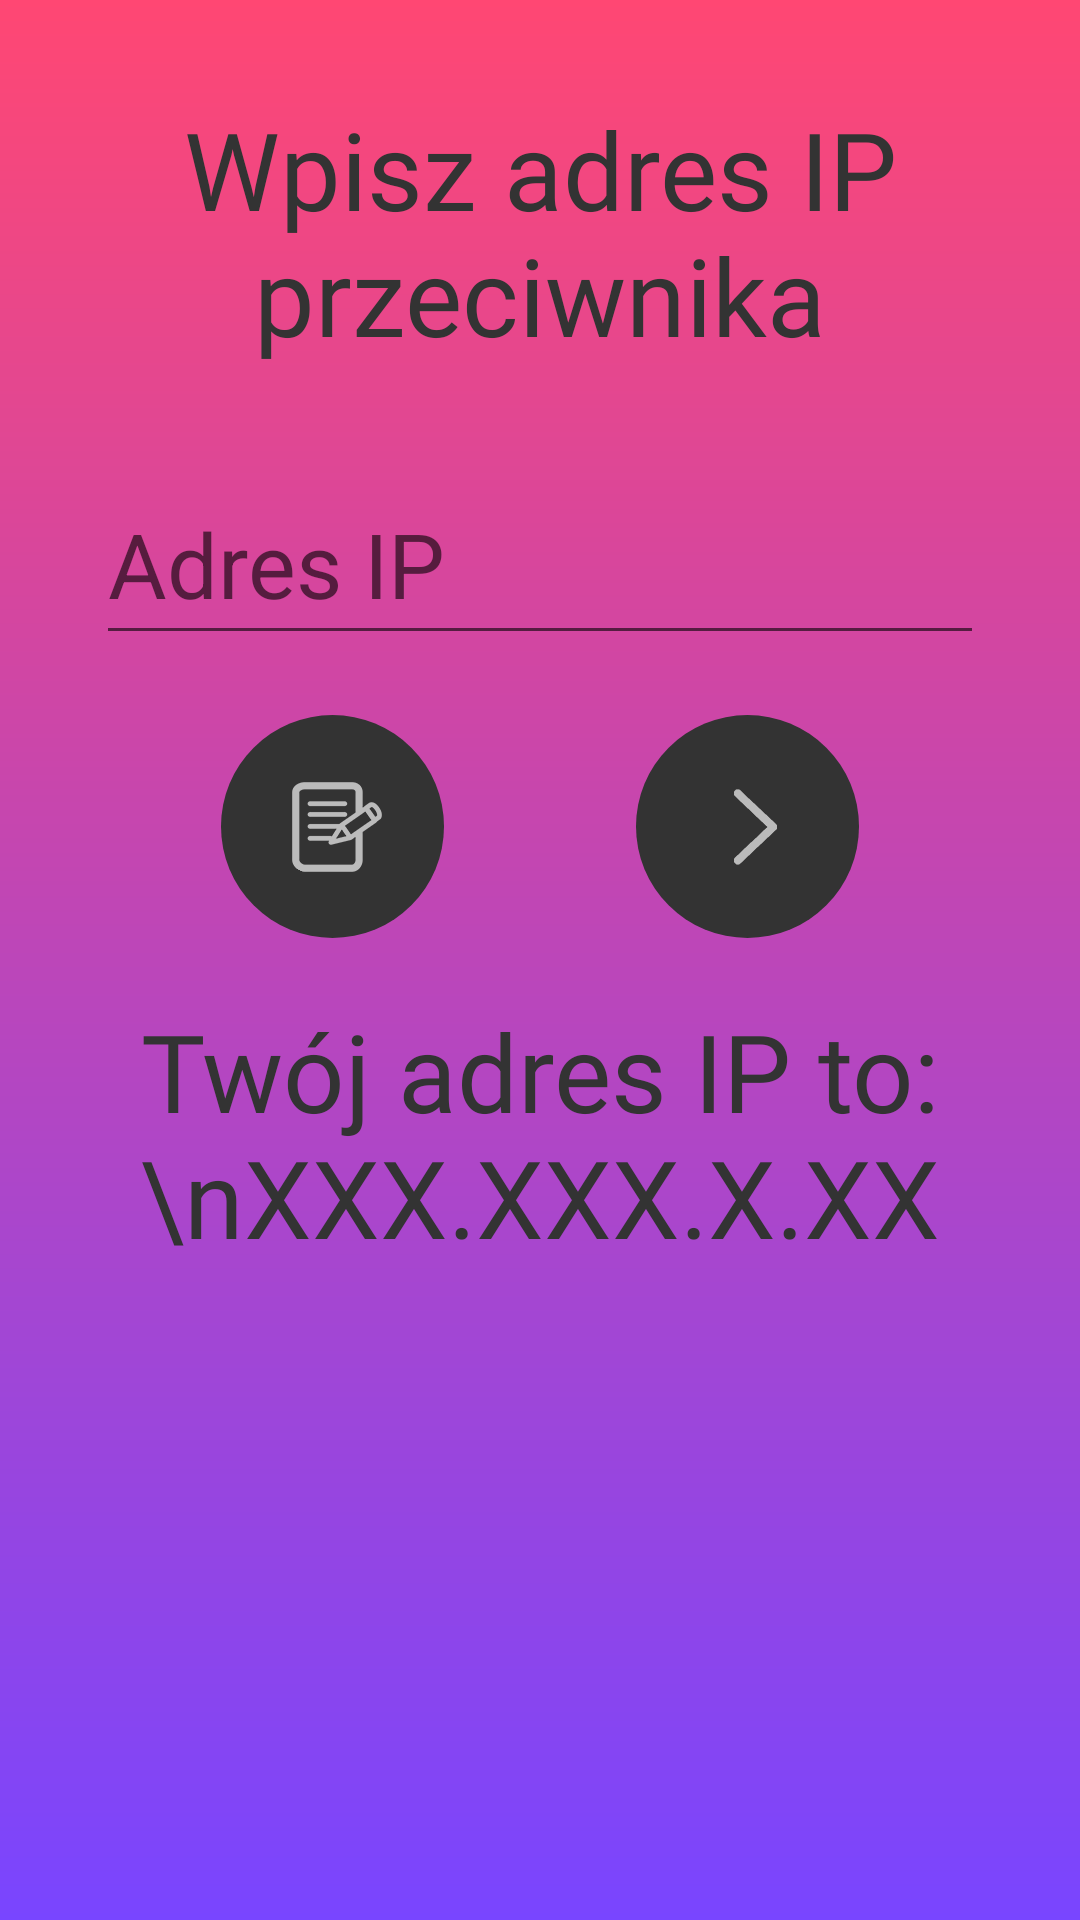

Icon click points for this 1080px×1920px phone screenshot, format [x,y]:
next: [747,826]
